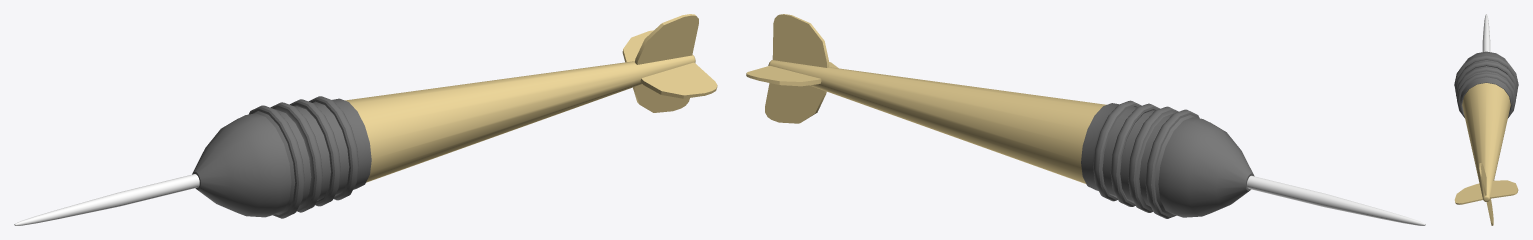
Rendered from DART.fbx.
The picture shows the model from 3 angles, left to right: view 1: azimuth 30°, elevation 25°; view 2: azimuth 150°, elevation 25°; view 3: azimuth 270°, elevation 25°; orthographic projection. The views are drawn at different scales.
Visible parts, largest first — view 1: Cylinder.006; view 2: Cylinder.006; view 3: Cylinder.006.
Part boxes in pixels (x1,y1,x2,y2): Cylinder.006: (14,14,717,225); Cylinder.006: (746,14,1425,225); Cylinder.006: (1454,14,1518,225).
Size of the model in its own units: 1.19 by 0.1757 by 0.1757.
